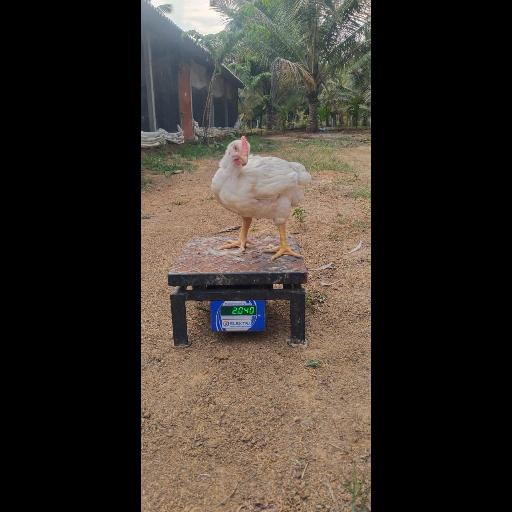chick: (213, 136, 312, 262)
